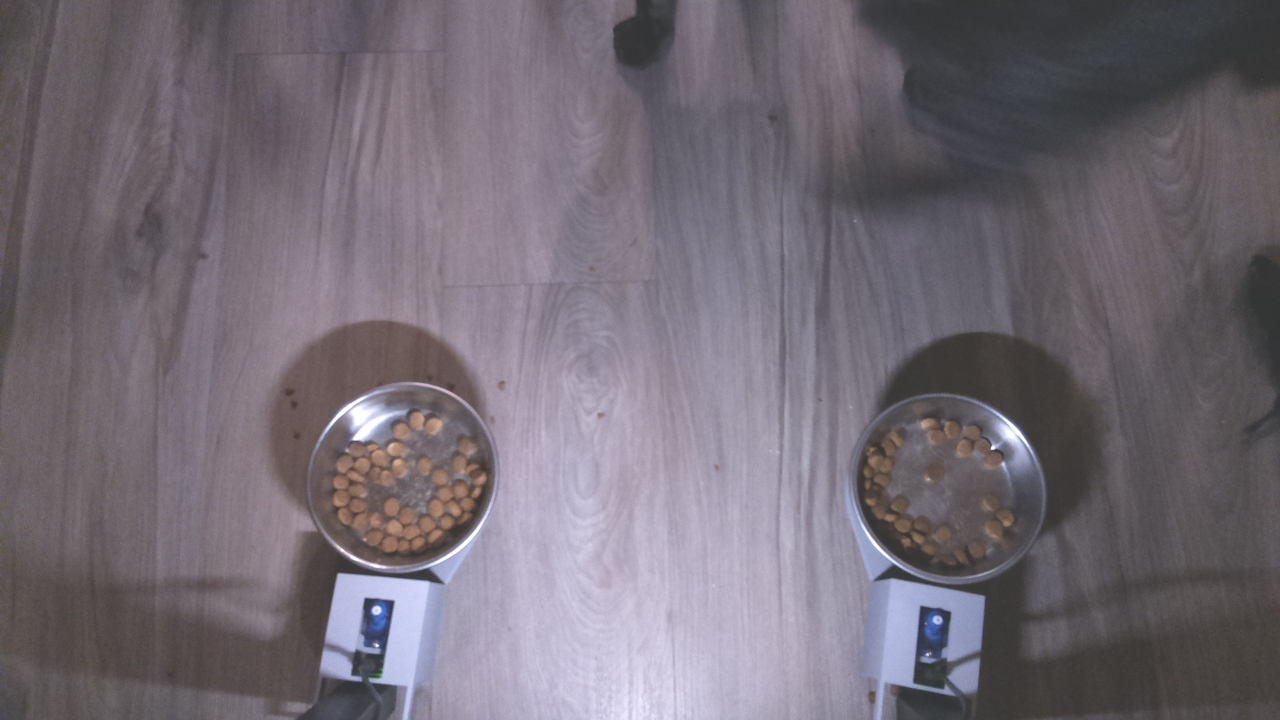open_bowl: (841, 386, 1056, 600), (300, 372, 502, 578)
